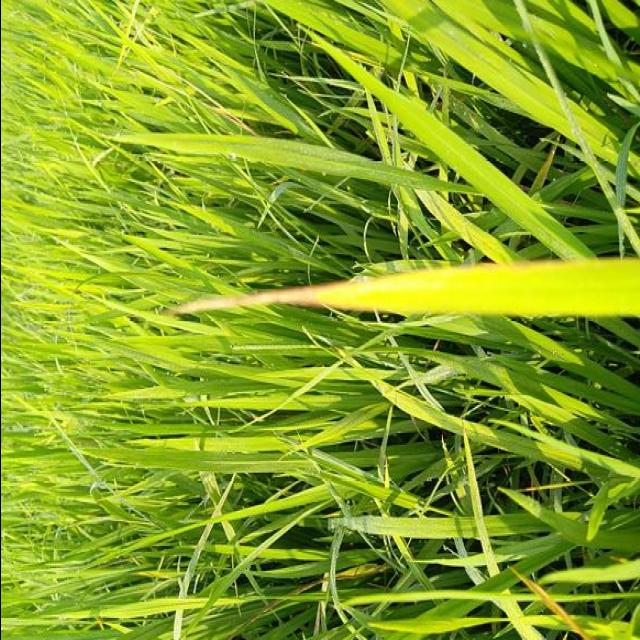Leaf Blight: (183, 257, 640, 320)
